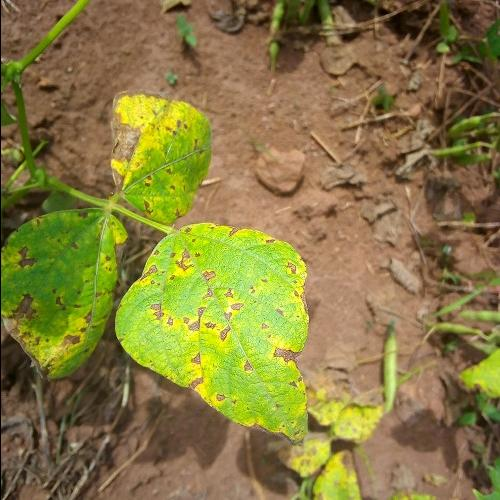hawar: (164, 239, 272, 371), (10, 239, 95, 336)
